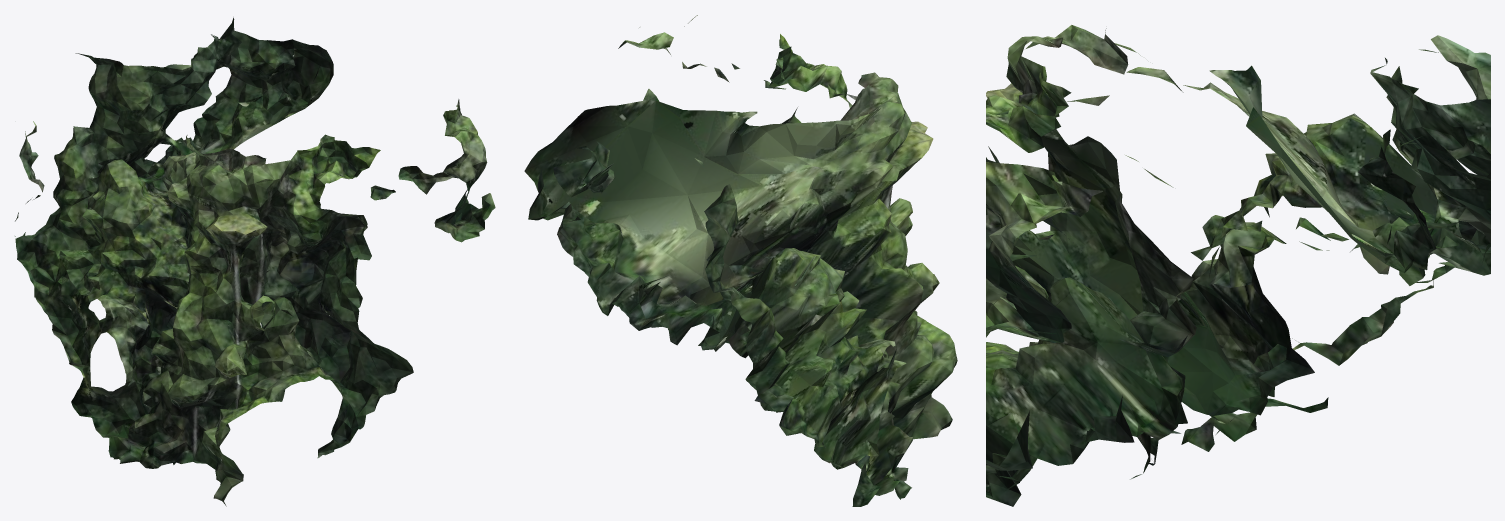
3 views of the same model, side by side, from view 1: azimuth 30°, elevation 25°; view 2: azimuth 150°, elevation 25°; view 3: azimuth 270°, elevation 25° (orthographic). The views are drawn at different scales.
Size of the model in its own units: 26.11 by 26.11 by 26.11.
7 materials, 7 textured.
